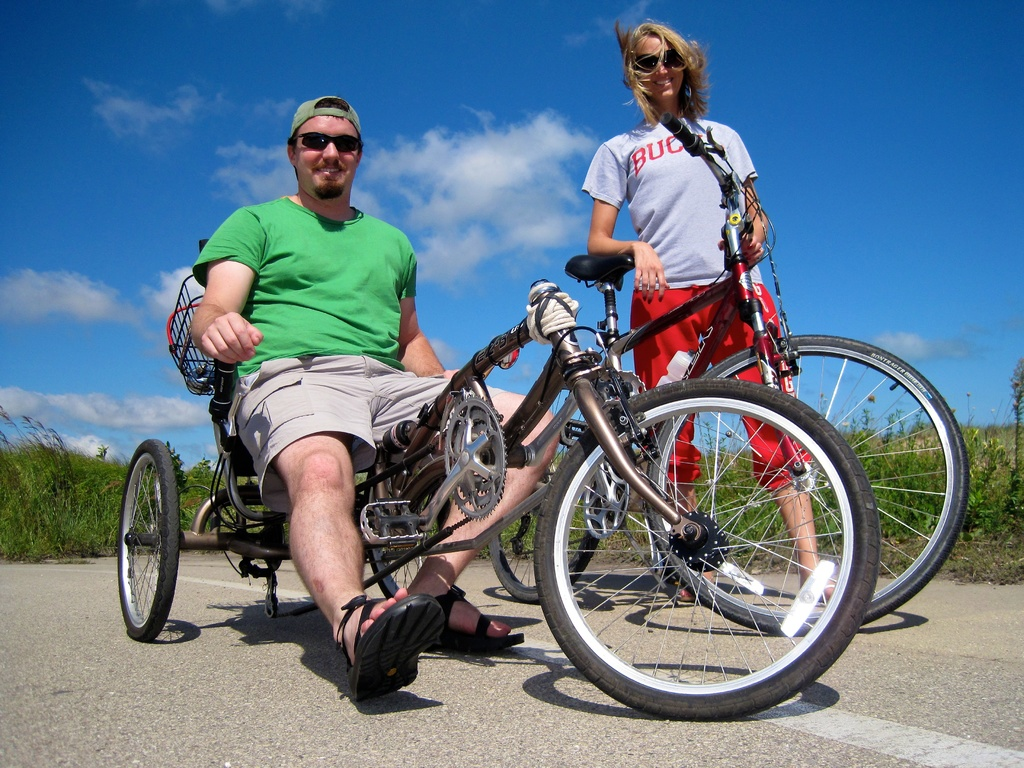Bike_toward: (209, 274, 857, 755)
